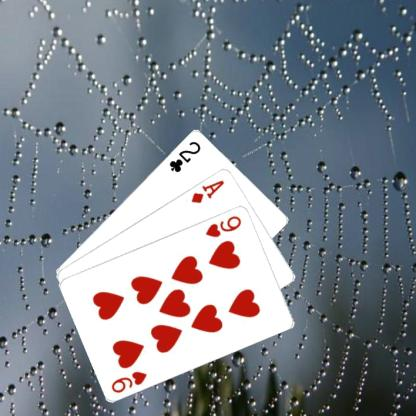2C: (166, 138, 202, 173)
9H: (203, 212, 243, 238), (108, 368, 148, 394)
AD: (188, 177, 226, 204)
